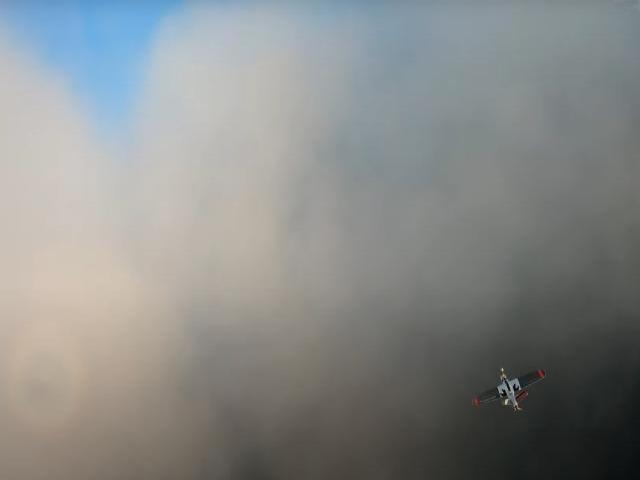iha: (471, 356, 549, 416)
